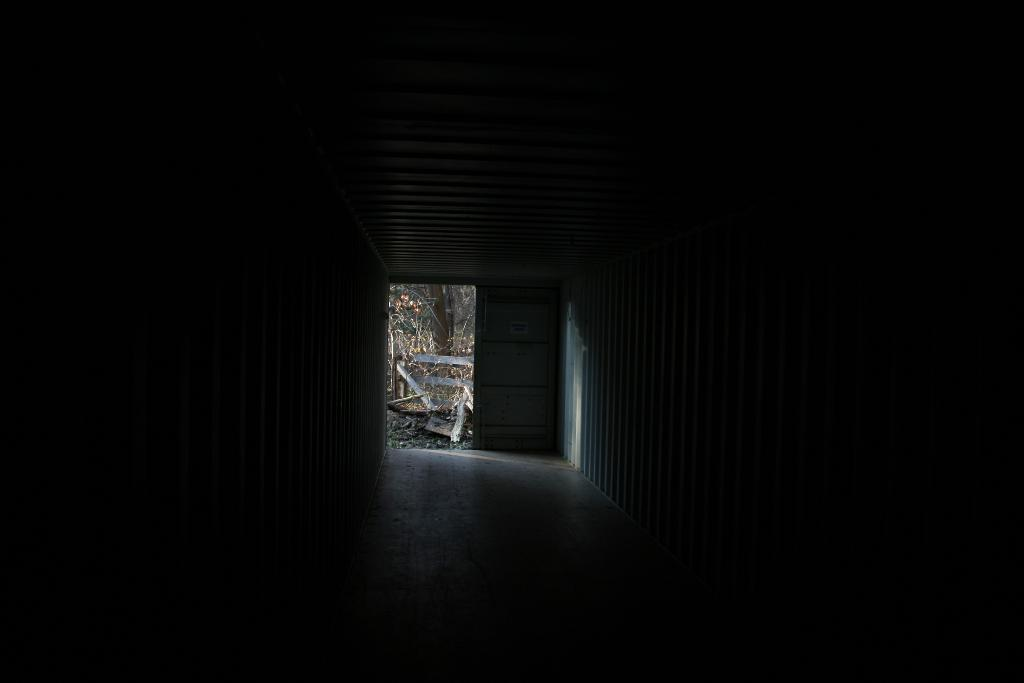Tree: (382, 274, 466, 362)
